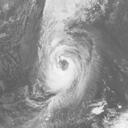cyclone: (40, 26, 92, 98)
